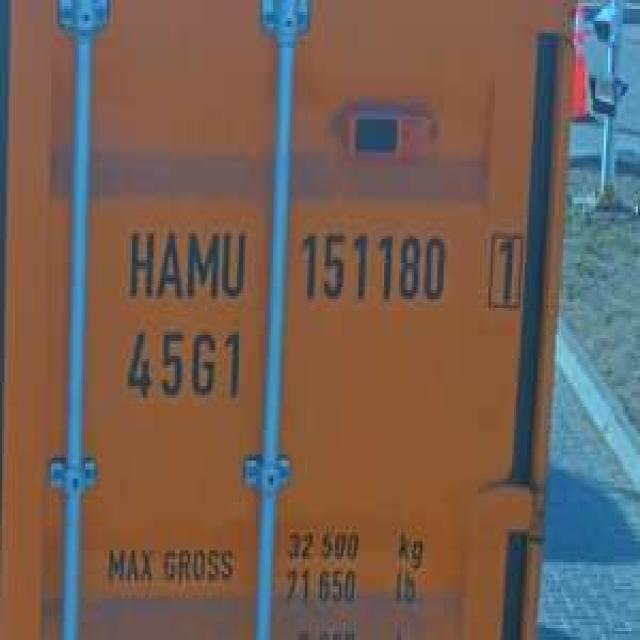dv: (480, 218, 527, 314)
owner: (121, 218, 248, 305)
serial: (294, 221, 448, 311)
size: (118, 320, 248, 407)
